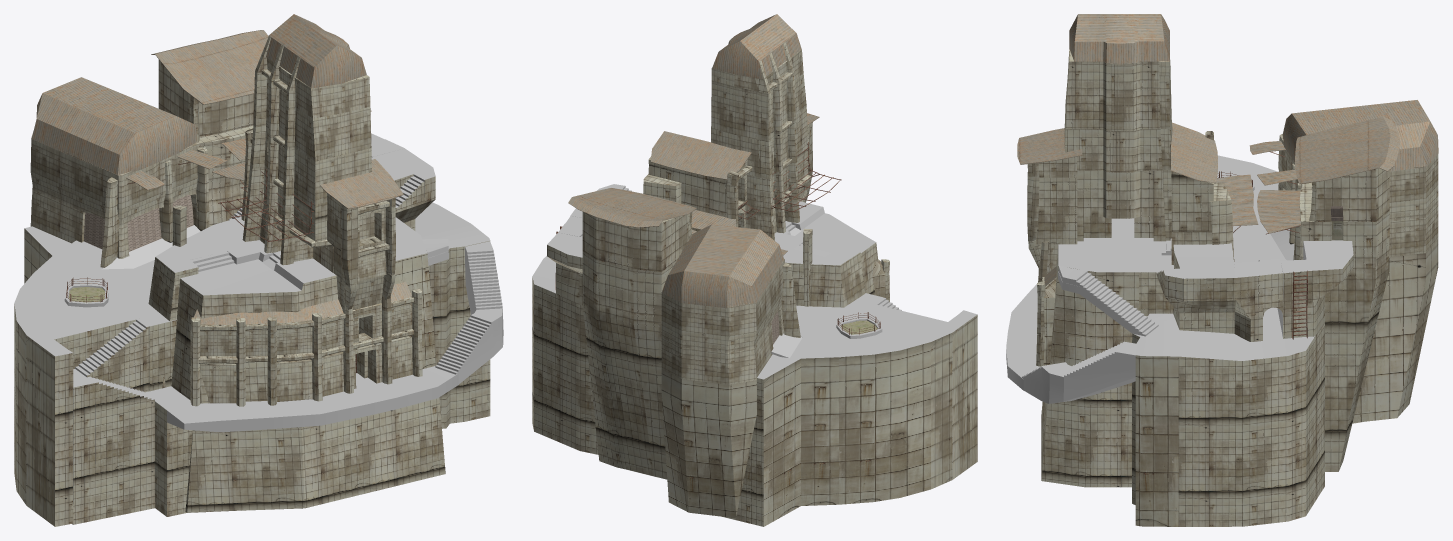
Rendered from SM_LostCity_00_Block_00.fbx.
The picture shows the model from 3 angles, left to right: view 1: azimuth 30°, elevation 25°; view 2: azimuth 150°, elevation 25°; view 3: azimuth 270°, elevation 25°; orthographic projection. The views are drawn at different scales.
Parts seen in each view (by area): view 1: SM_LostCity_00_Block_00, Cube.043, Cube.038, Cube.040, Cube.037, Cube.032, Cube.046, Cube.051, Cube.047, Cube.029; view 2: SM_LostCity_00_Block_00, Cube.032, Cube.043, Cube.038, Cube.046, Cube.037, Cube.047, Cube.029, Cube.040; view 3: SM_LostCity_00_Block_00, Cube.032, Cube.043, Cube.037, Cube.038, Cube.046, Cube.040, LAdder.
Boxes of the visible parts, box(x1,y1,x2,y2) form: SM_LostCity_00_Block_00: box(14, 202, 490, 526); Cube.043: box(31, 14, 411, 324); Cube.038: box(242, 36, 371, 272); Cube.040: box(190, 288, 422, 406); Cube.037: box(72, 133, 503, 524); Cube.032: box(30, 59, 254, 258); Cube.046: box(100, 95, 395, 309); Cube.051: box(84, 195, 193, 251); Cube.047: box(66, 151, 313, 302); Cube.029: box(64, 251, 280, 307); SM_LostCity_00_Block_00: box(532, 201, 977, 526); Cube.032: box(582, 212, 784, 517); Cube.043: box(568, 14, 882, 308); Cube.038: box(711, 42, 811, 240); Cube.046: box(643, 122, 812, 337); Cube.037: box(547, 184, 901, 310); Cube.047: box(738, 142, 880, 334); Cube.029: box(785, 221, 882, 338); Cube.040: box(872, 259, 889, 302); SM_LostCity_00_Block_00: box(1006, 155, 1361, 526); Cube.032: box(1278, 134, 1438, 471); Cube.043: box(1017, 14, 1438, 286); Cube.037: box(1022, 240, 1353, 403); Cube.038: box(1064, 49, 1172, 241); Cube.046: box(1027, 131, 1316, 273); Cube.040: box(1036, 241, 1056, 366); LAdder: box(1292, 270, 1308, 339).
Size of the model in its own units: 6066 by 5737 by 5279.
